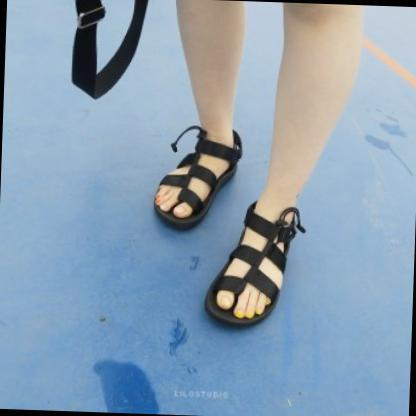no_safety-shoe: (186, 200, 353, 337), (146, 109, 236, 234)
